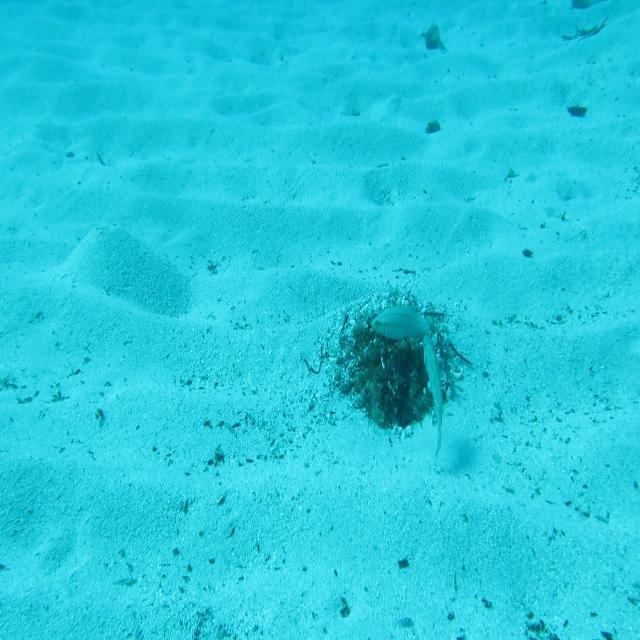GB: (412, 331, 448, 473)
female: (370, 300, 438, 352)
nest: (336, 288, 462, 450)
